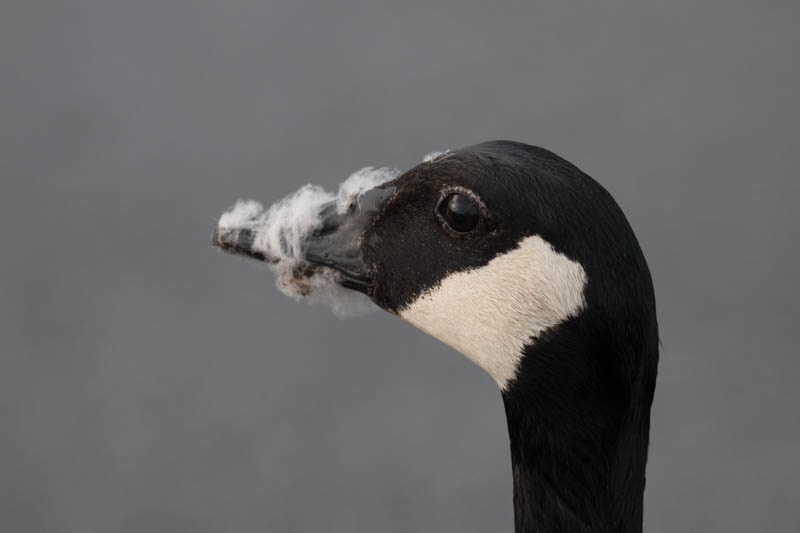goose-head: (213, 140, 658, 397)
